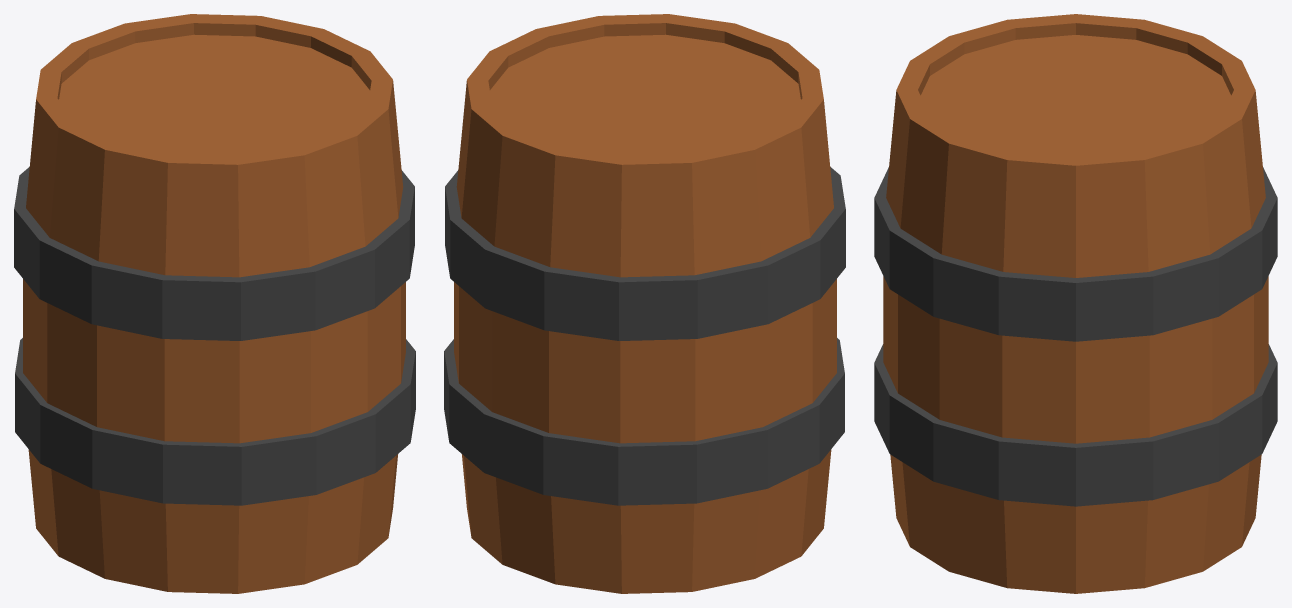
File: A wooden model.fbx
3 views of the same model, side by side, from view 1: azimuth 30°, elevation 25°; view 2: azimuth 150°, elevation 25°; view 3: azimuth 270°, elevation 25° (orthographic).
Parts seen in each view (by area): view 1: Barrel; view 2: Barrel; view 3: Barrel.
Part boxes in pixels (x1=…): Barrel: x1=14, y1=14, x2=415, y2=593; Barrel: x1=444, y1=14, x2=845, y2=593; Barrel: x1=874, y1=14, x2=1277, y2=593.
Size of the model in its own units: 448 by 523 by 447.
